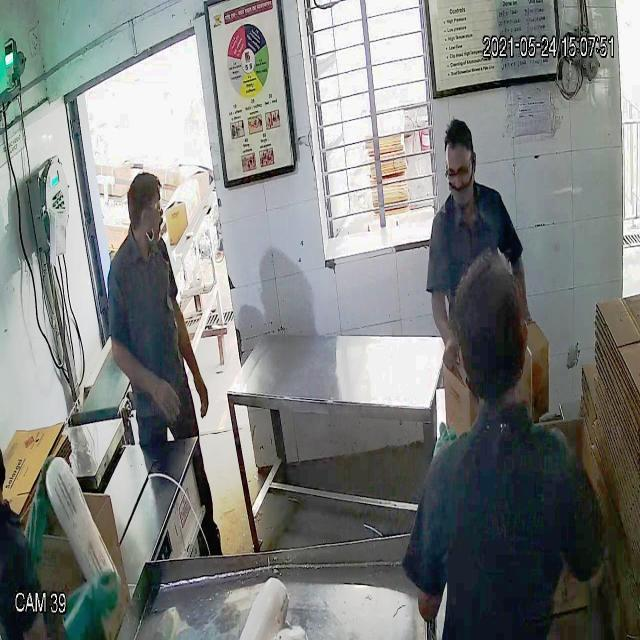glasses: (442, 157, 476, 187), (130, 198, 166, 222)
